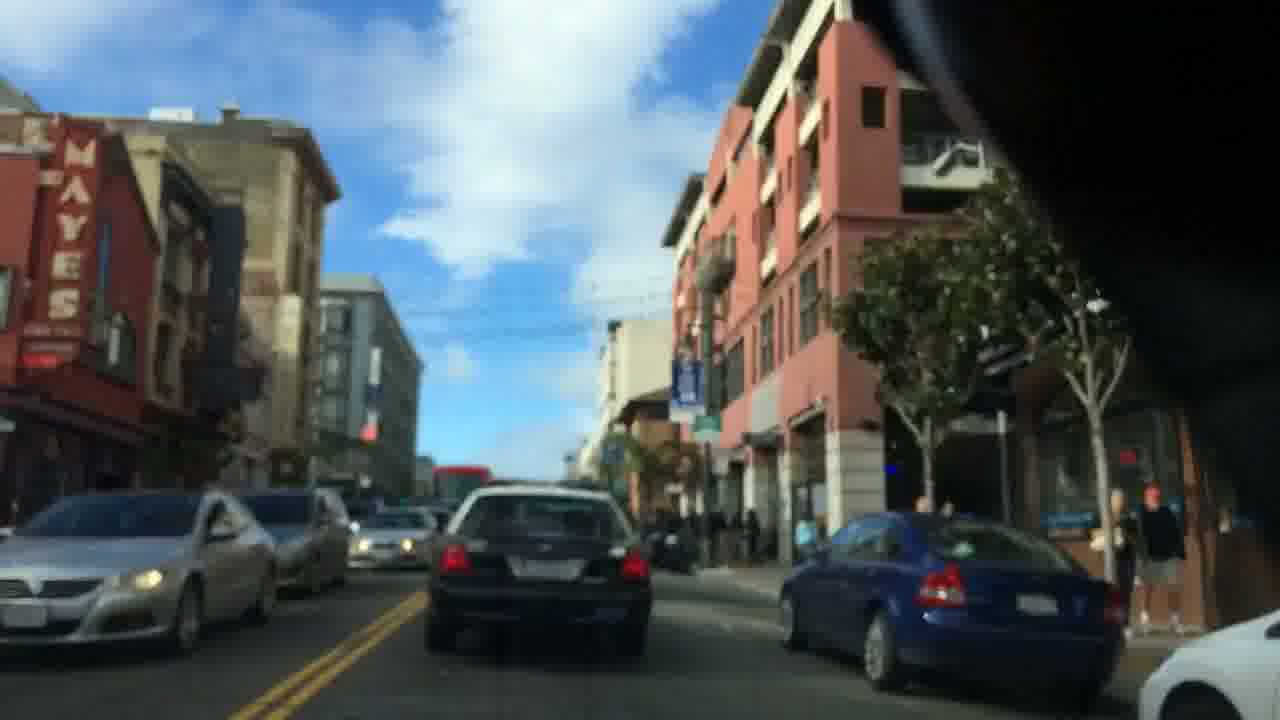car: (777, 507, 1128, 701), (0, 486, 280, 654), (423, 484, 653, 657), (230, 486, 352, 596), (344, 503, 439, 571)
pedestrian: (1133, 482, 1188, 634), (1088, 488, 1138, 625), (738, 508, 763, 567), (792, 510, 818, 560)
